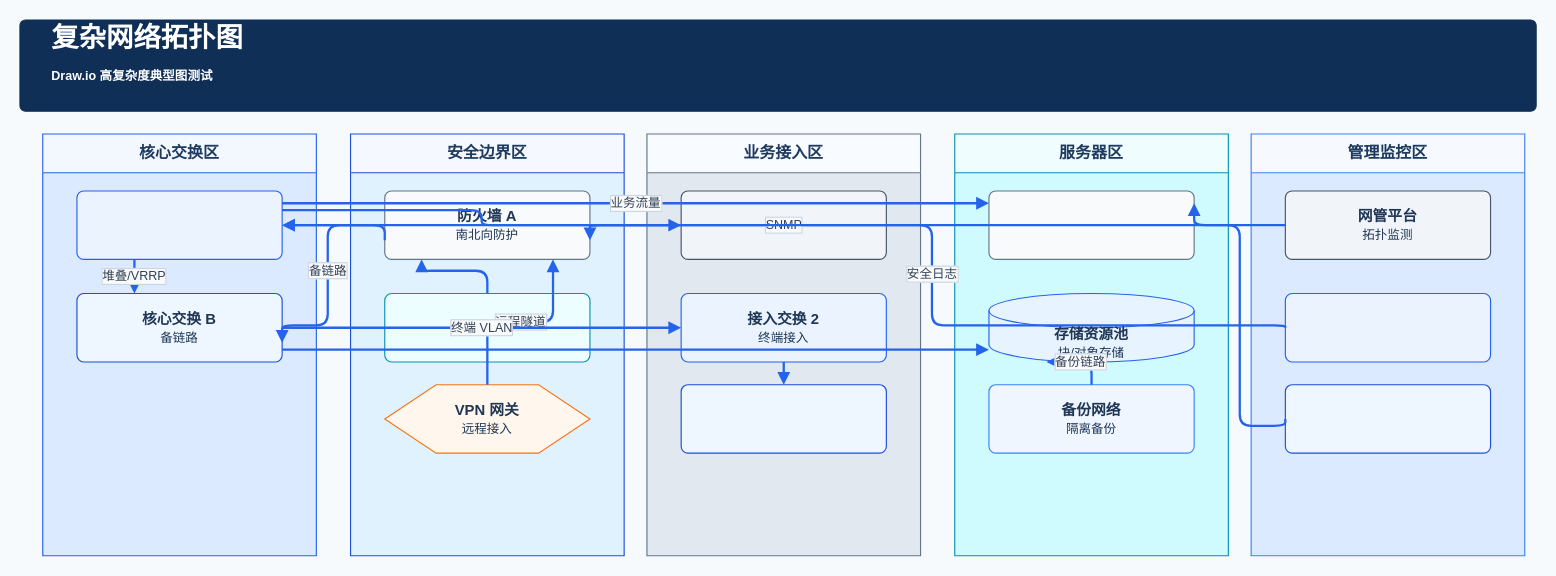
The diagram is 1556 pixels wide and 576 high, and some of its shapes have lost their labels. The centre of each missing label's shape, as x and y in pixels:
"入侵检测 威胁识别" goes at (487,327).
"接入交换 1 办公接入" goes at (783,224).
"日志审计 安全留痕" goes at (1387,327).
"核心交换 A 主链路" goes at (179,224).
"物联接入 设备采集" goes at (783,418).
"计算资源池 虚拟化集群" goes at (1091,224).
"运维跳板 受控访问" goes at (1387,418).
